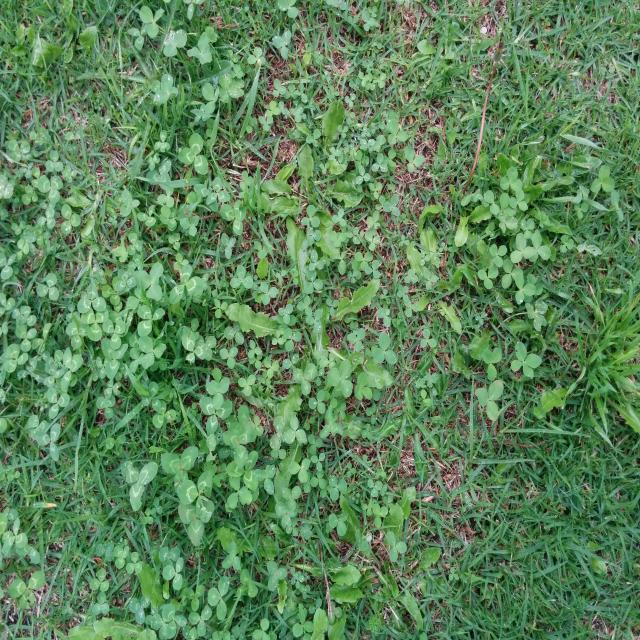Four Leaf Clover: (511, 341, 542, 379)
